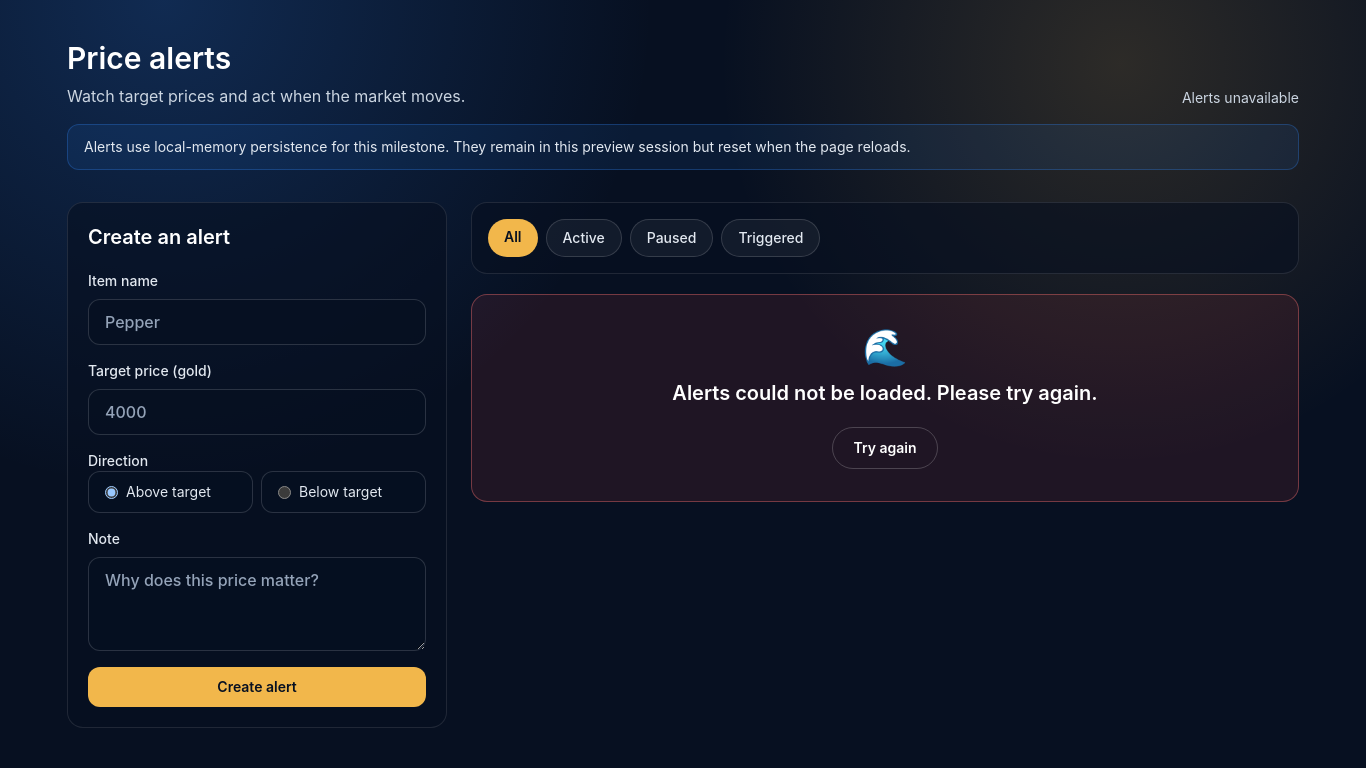
it: PriceAlertsPage › recovers from a load error
Check: the message shows "Alerts could not be loaded", box [672, 381, 1098, 405]
What coordinates should you click on to do the following:
click the button "Try again"
I would click on:
 (885, 448)
Its box is [832, 427, 938, 469].
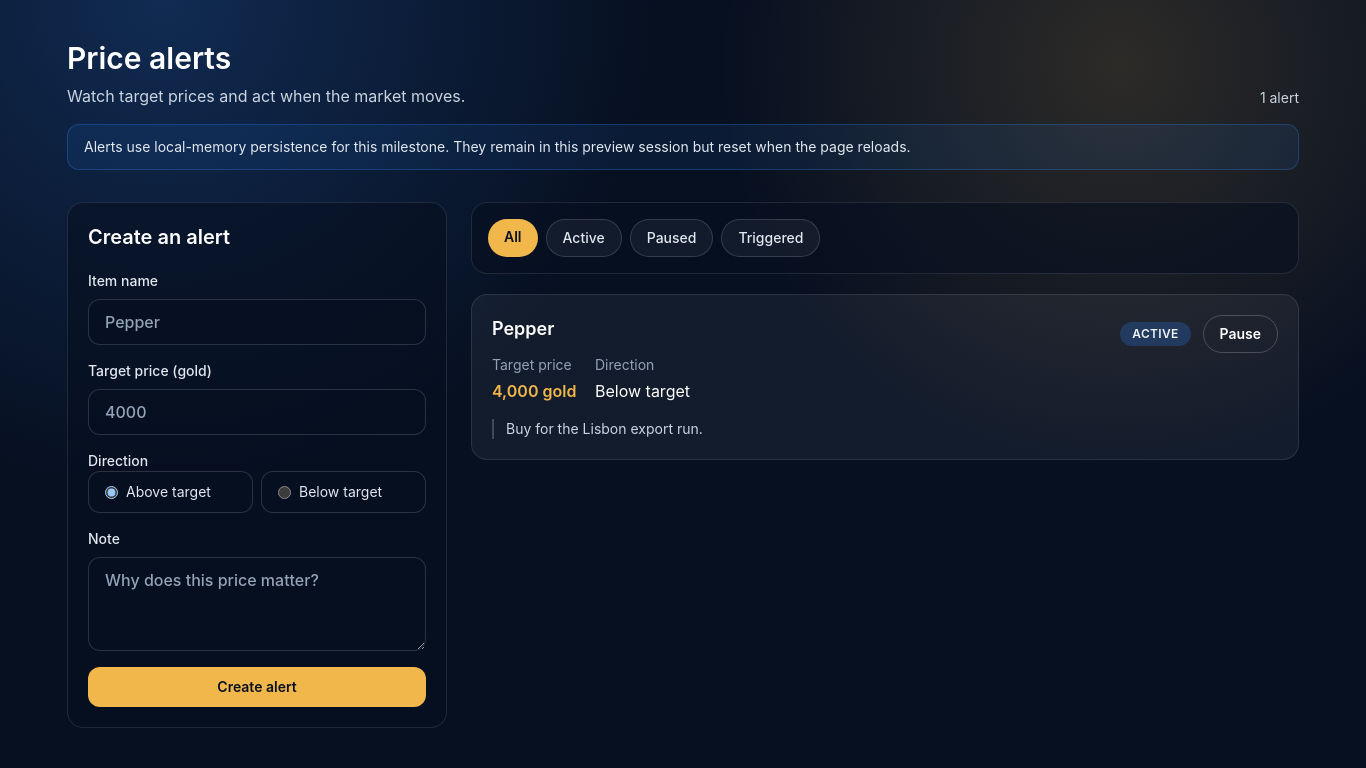
Check: the heading "Pepper" is shown, box [492, 318, 554, 339]
